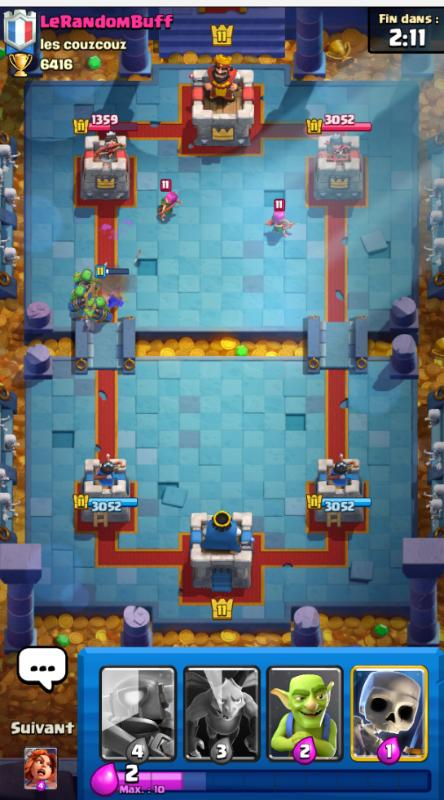archere: (273, 197, 295, 234), (157, 190, 181, 216)
gobelin_lances: (73, 265, 112, 324)
